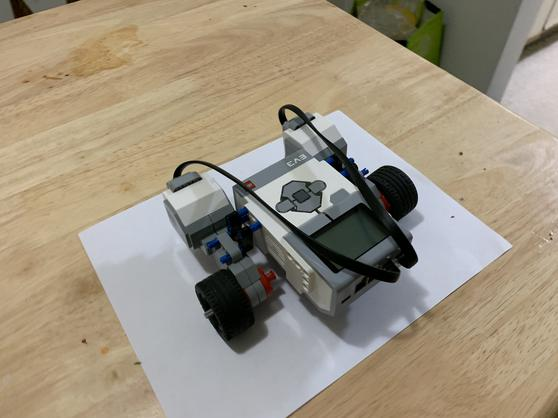robot: (157, 100, 427, 349)
